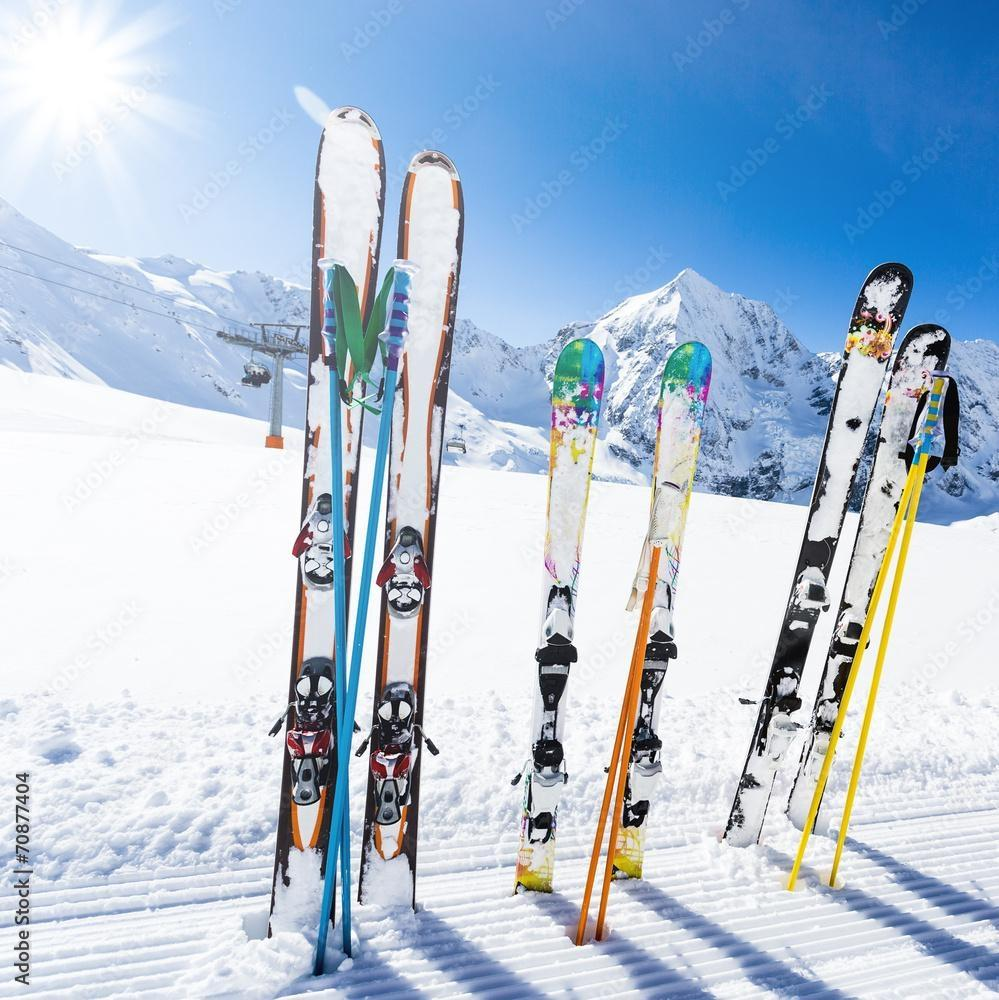Skis: (267, 89, 500, 948)
